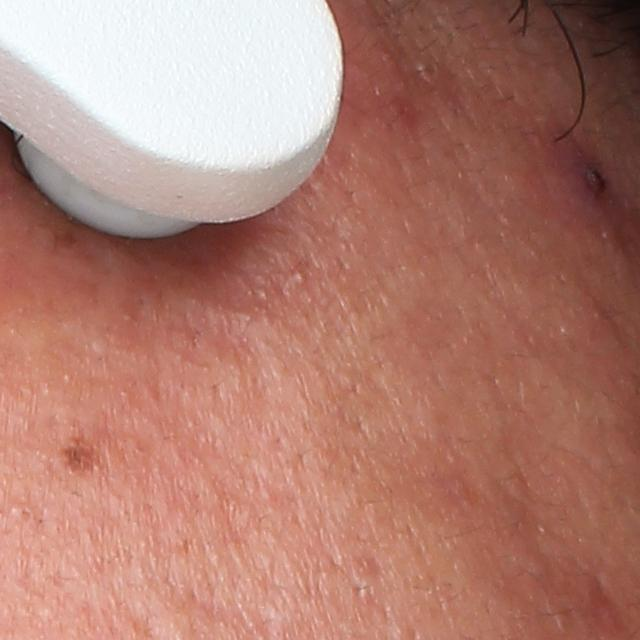comedo: (13, 503, 36, 523)
nevus: (55, 432, 107, 481)
